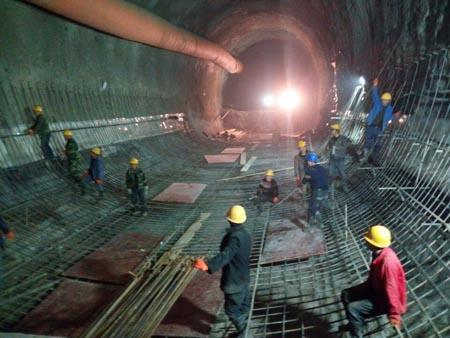helmet: (365, 223, 394, 254), (226, 202, 248, 229), (379, 90, 393, 107), (264, 166, 276, 184), (328, 122, 340, 140), (127, 156, 141, 171), (62, 127, 75, 143), (305, 153, 318, 169), (32, 102, 45, 117), (298, 138, 308, 156), (89, 146, 101, 160)
